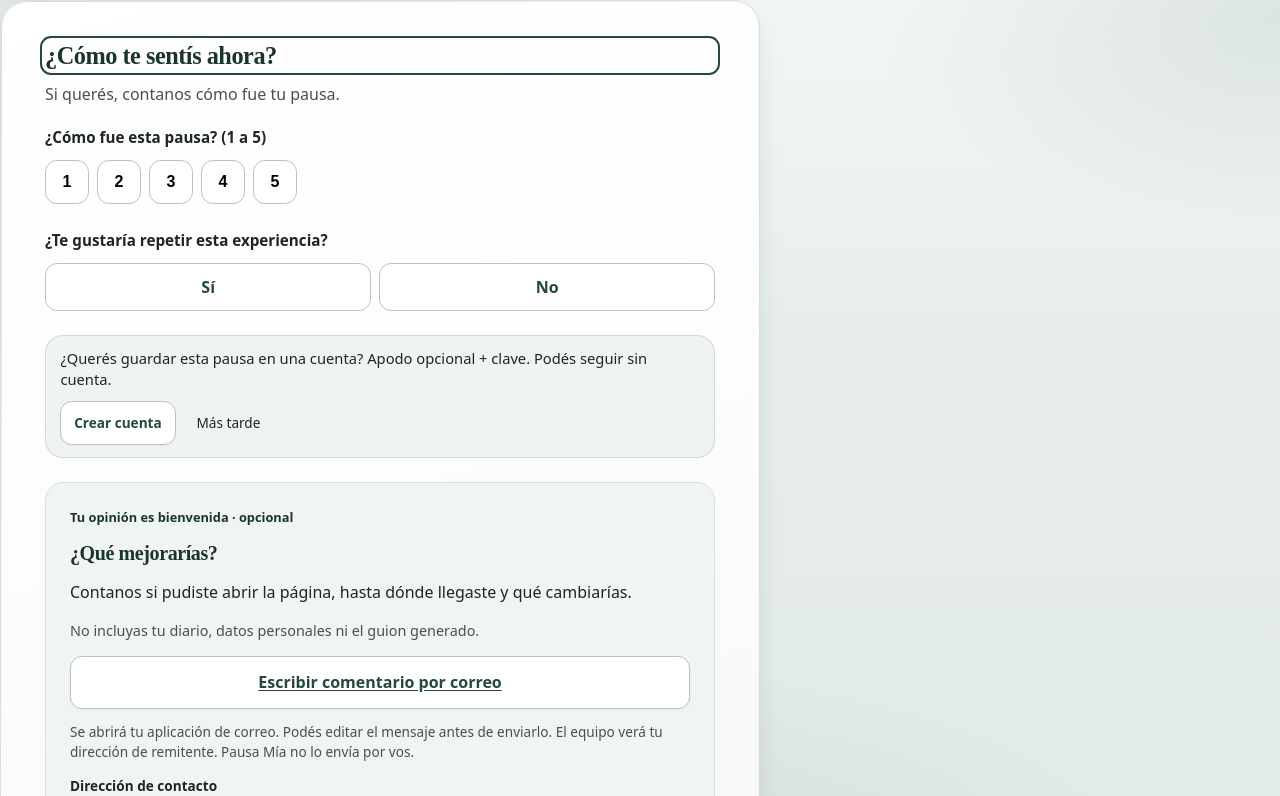
Test case: FeedbackStep soft account nudge › muestra el nudge una vez tras meditación completada y Más tarde lo oculta
Expected: the text "guardar esta pausa en una cuenta" is shown, [60, 348, 647, 389]
Expected: the button "Crear cuenta" is shown, [60, 401, 176, 445]
What coordinates should you click on to do the following:
click the button "Más tarde"
I would click on:
 (228, 423)
Its box is [183, 401, 274, 445].
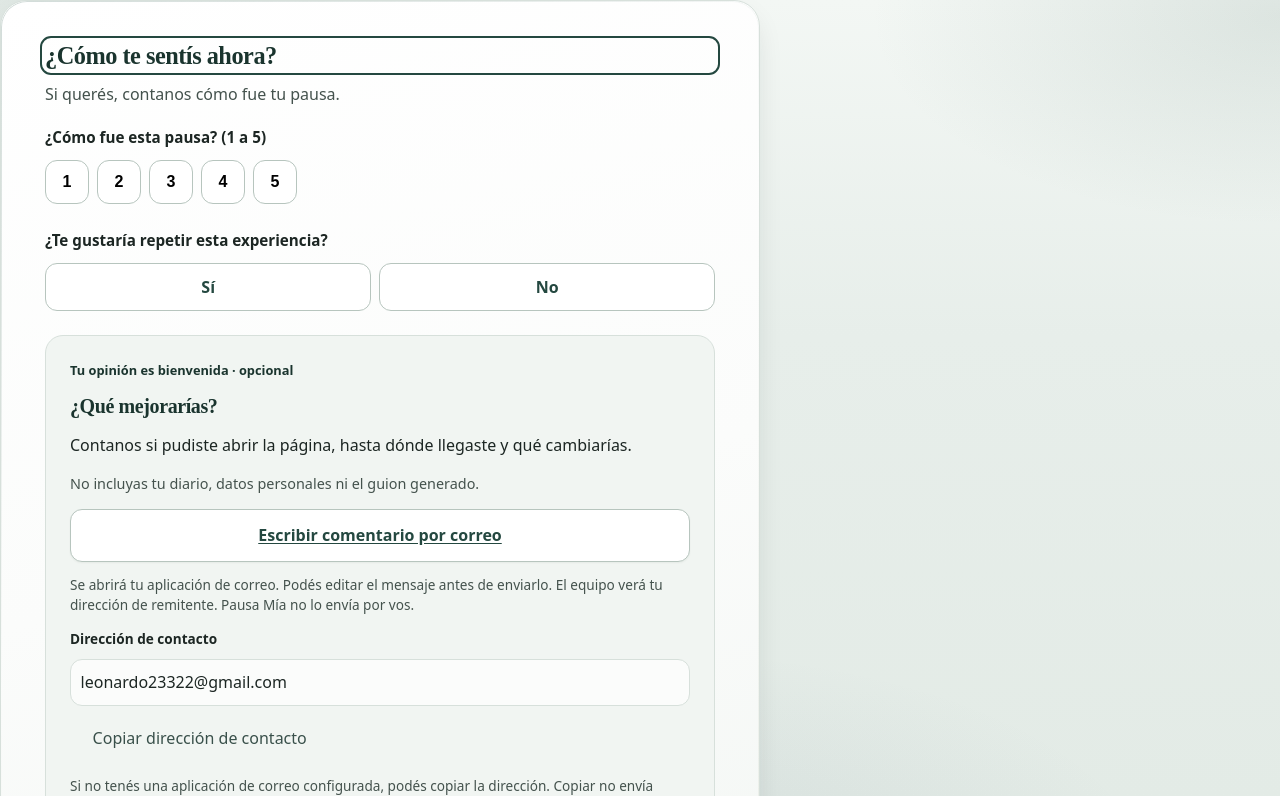
Now the text "guardar esta pausa en una cuenta" is gone
